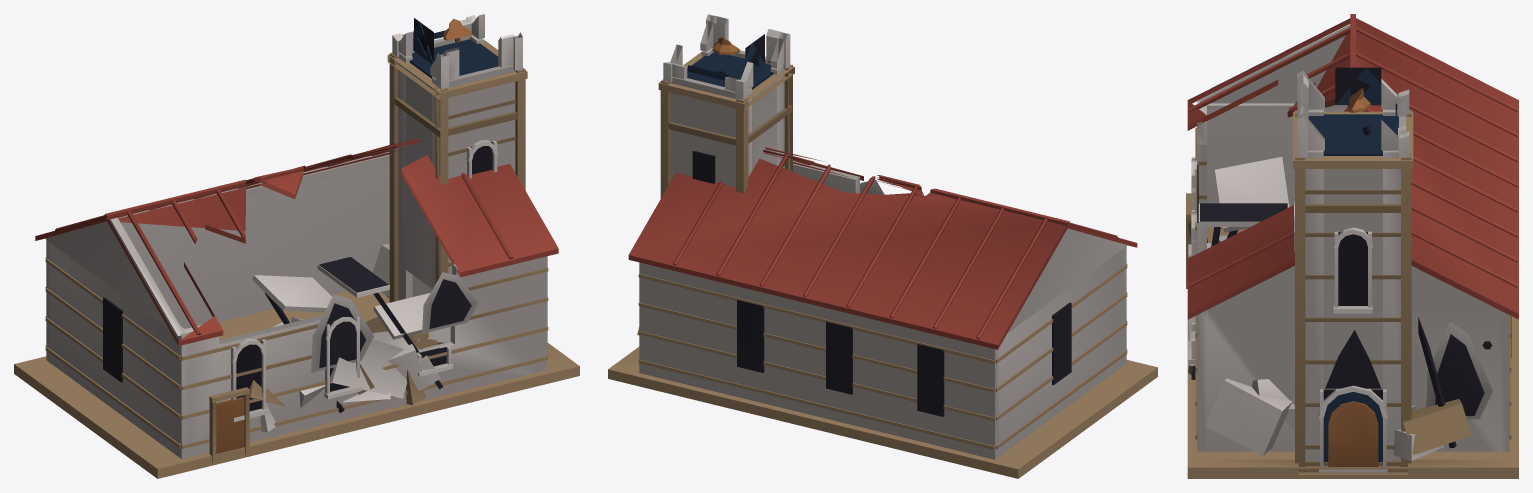
3 renders of one model, left to right at view 1: azimuth 30°, elevation 25°; view 2: azimuth 150°, elevation 25°; view 3: azimuth 270°, elevation 25°, orthographic. The views are drawn at different scales.
Visible parts, largest first — view 1: body_pal_picketWhite, body_pal_khaki, roof_pal_brick, body_pal_uiDark, body_pal_blueTrim, body_pal_woodWarm; view 2: body_pal_picketWhite, roof_pal_brick, body_pal_khaki, body_pal_uiDark, body_pal_blueTrim; view 3: body_pal_picketWhite, roof_pal_brick, body_pal_khaki, body_pal_uiDark, body_pal_blueTrim, door_front_pal_woodWarm, body_pal_woodWarm.
Part boxes in pixels (box(x1,y1,x2,y2)): body_pal_picketWhite: box(45, 14, 547, 458); body_pal_khaki: box(14, 40, 579, 478); roof_pal_brick: box(35, 138, 558, 345); body_pal_uiDark: box(103, 18, 492, 412); body_pal_blueTrim: box(409, 22, 498, 78); body_pal_woodWarm: box(216, 18, 471, 453); body_pal_picketWhite: box(639, 14, 1127, 459); roof_pal_brick: box(628, 147, 1137, 349); body_pal_khaki: box(608, 52, 1157, 478); body_pal_uiDark: box(692, 34, 1071, 416); body_pal_blueTrim: box(687, 43, 773, 89); body_pal_picketWhite: box(1188, 24, 1509, 472); roof_pal_brick: box(1187, 14, 1518, 319); body_pal_khaki: box(1186, 110, 1518, 478); body_pal_uiDark: box(1191, 67, 1511, 448); body_pal_blueTrim: box(1308, 67, 1398, 461); door_front_pal_woodWarm: box(1328, 401, 1378, 466); body_pal_woodWarm: box(1349, 88, 1370, 112).
Size of the model in its own units: 18 by 12.9 by 10.65.
